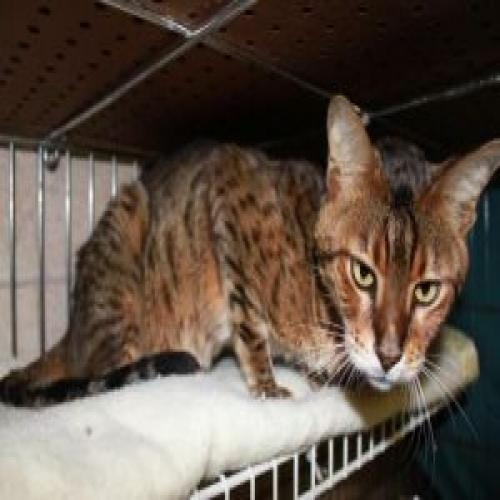bengal: (314, 90, 498, 422)
